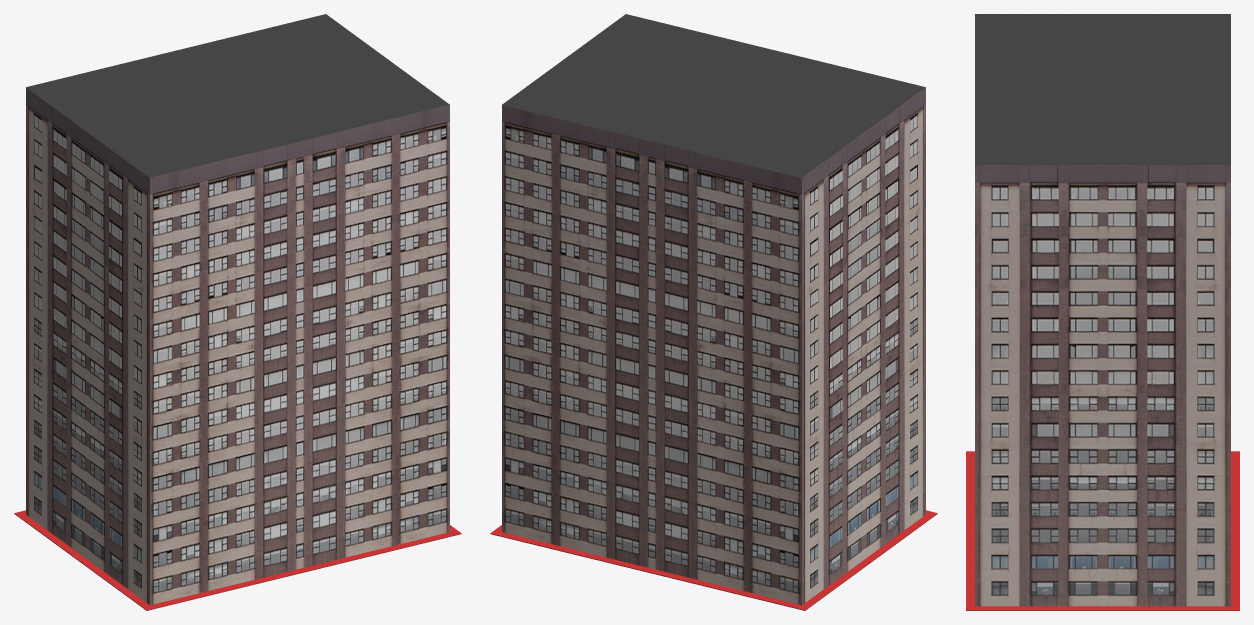
File: ResidentalBuildingB.FBX
3 renders of one model, left to right at view 1: azimuth 30°, elevation 25°; view 2: azimuth 150°, elevation 25°; view 3: azimuth 270°, elevation 25°, orthographic. The views are drawn at different scales.
Parts seen in each view (by area): view 1: Facade, Roof, Bottom; view 2: Facade, Roof, Bottom; view 3: Facade, Roof, Bottom.
Part boxes in pixels (x1=…): Facade: x1=26, y1=87, x2=449, y2=604; Roof: x1=26, y1=14, x2=449, y2=177; Bottom: x1=14, y1=510, x2=461, y2=610; Facade: x1=502, y1=87, x2=925, y2=604; Roof: x1=502, y1=14, x2=925, y2=177; Bottom: x1=490, y1=510, x2=937, y2=610; Facade: x1=975, y1=165, x2=1230, y2=606; Roof: x1=975, y1=14, x2=1230, y2=165; Bottom: x1=966, y1=451, x2=1239, y2=610.
Size of the model in its own units: 4260 by 5533 by 3107.
